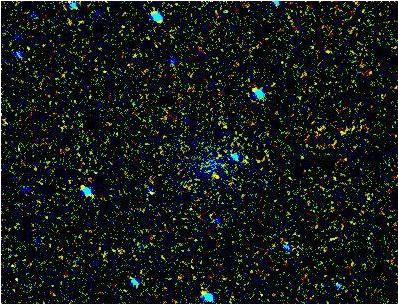star: (201, 161, 231, 191)
